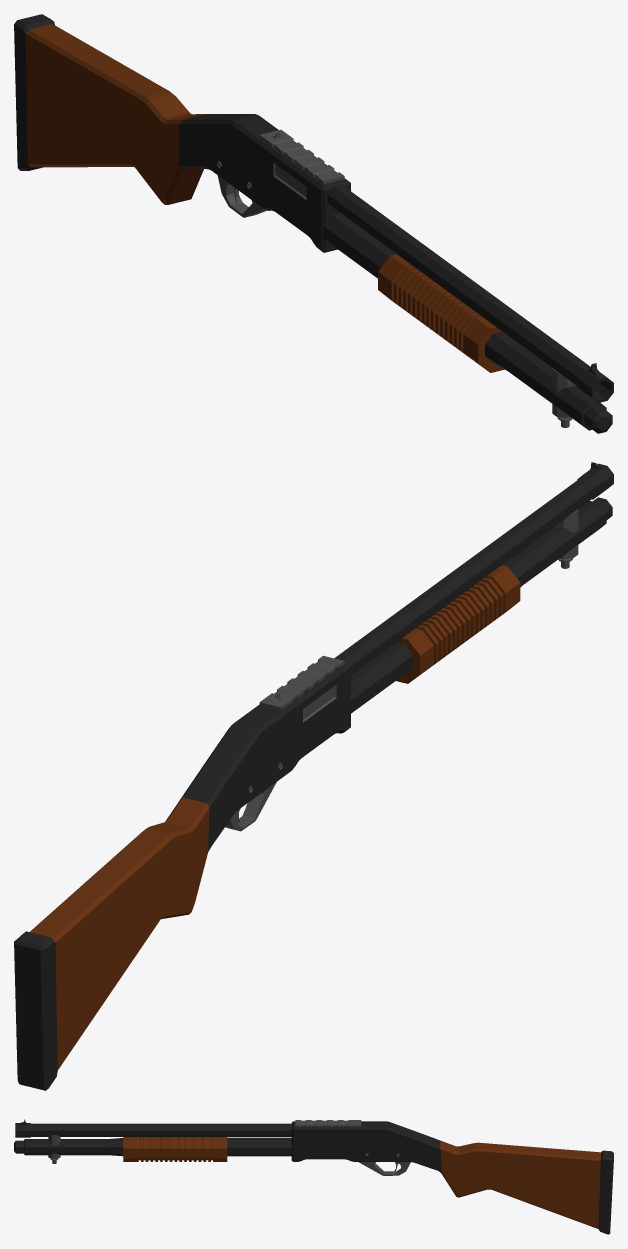
The model's file is Shotgun.fbx.
3 views of the same model, one above another, from view 1: azimuth 30°, elevation 25°; view 2: azimuth 150°, elevation 25°; view 3: azimuth 270°, elevation 25° (orthographic). The views are drawn at different scales.
Visible parts, largest first — view 1: Shotgun, Pump; view 2: Shotgun, Pump; view 3: Shotgun, Pump.
Part boxes in pixels (x1,y1,x2,y2): Shotgun: (14,14,613,433); Pump: (378,254,504,372); Shotgun: (14,462,613,1090); Pump: (396,565,520,683); Shotgun: (14,1119,613,1234); Pump: (123,1137,227,1161).
Bounding box in the file's own units: 0.0891 × 0.4331 × 2.11.
